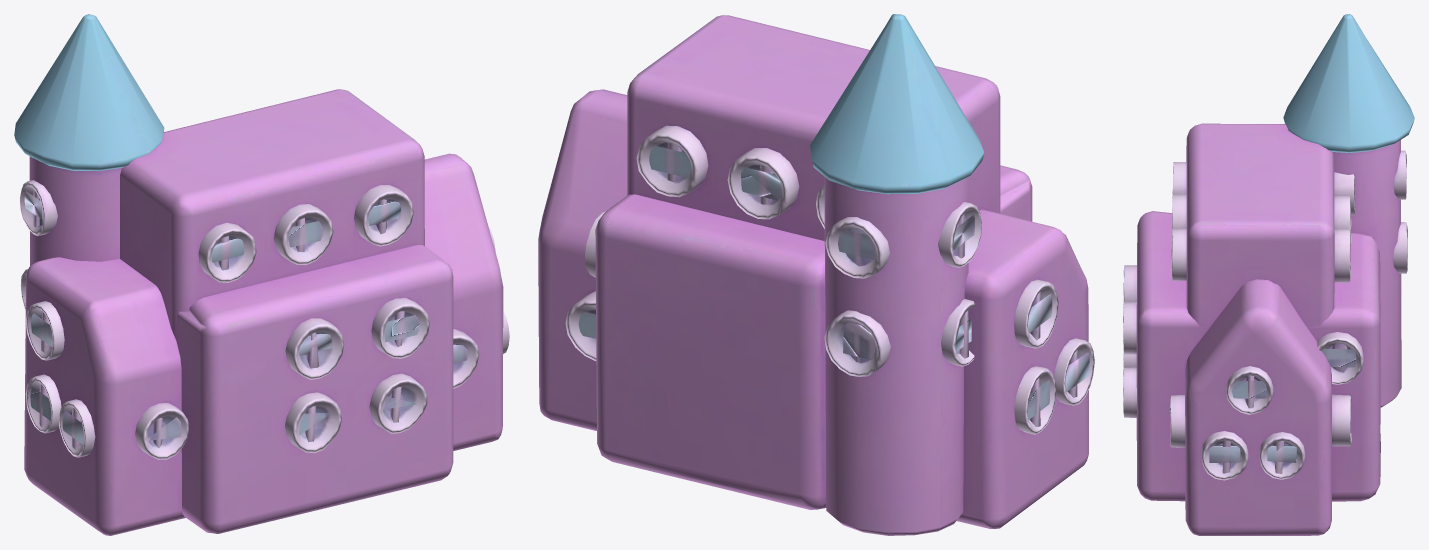
Rendered from house-tower.glb.
3 renders of one model, left to right at view 1: azimuth 30°, elevation 25°; view 2: azimuth 150°, elevation 25°; view 3: azimuth 270°, elevation 25°, orthographic. The views are drawn at different scales.
Parts seen in each view (by area): view 1: geometry_0; view 2: geometry_0; view 3: geometry_0.
Boxes of the visible parts, x1=… form: geometry_0: x1=14, y1=14, x2=509, y2=535; geometry_0: x1=538, y1=14, x2=1094, y2=535; geometry_0: x1=1123, y1=14, x2=1414, y2=535.
Size of the model in its own units: 1 by 0.9978 by 0.6829.
1 material, 1 textured.
